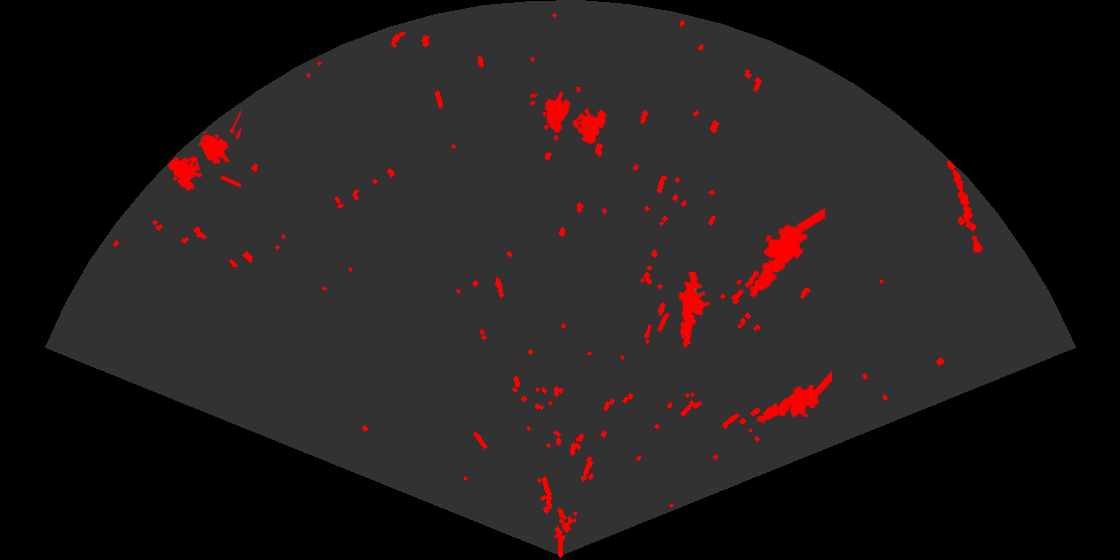cage: (167, 109, 241, 193), (530, 87, 609, 146)
chain: (945, 159, 985, 255)
frogman: (747, 209, 825, 299), (755, 369, 832, 425), (677, 272, 711, 349)
